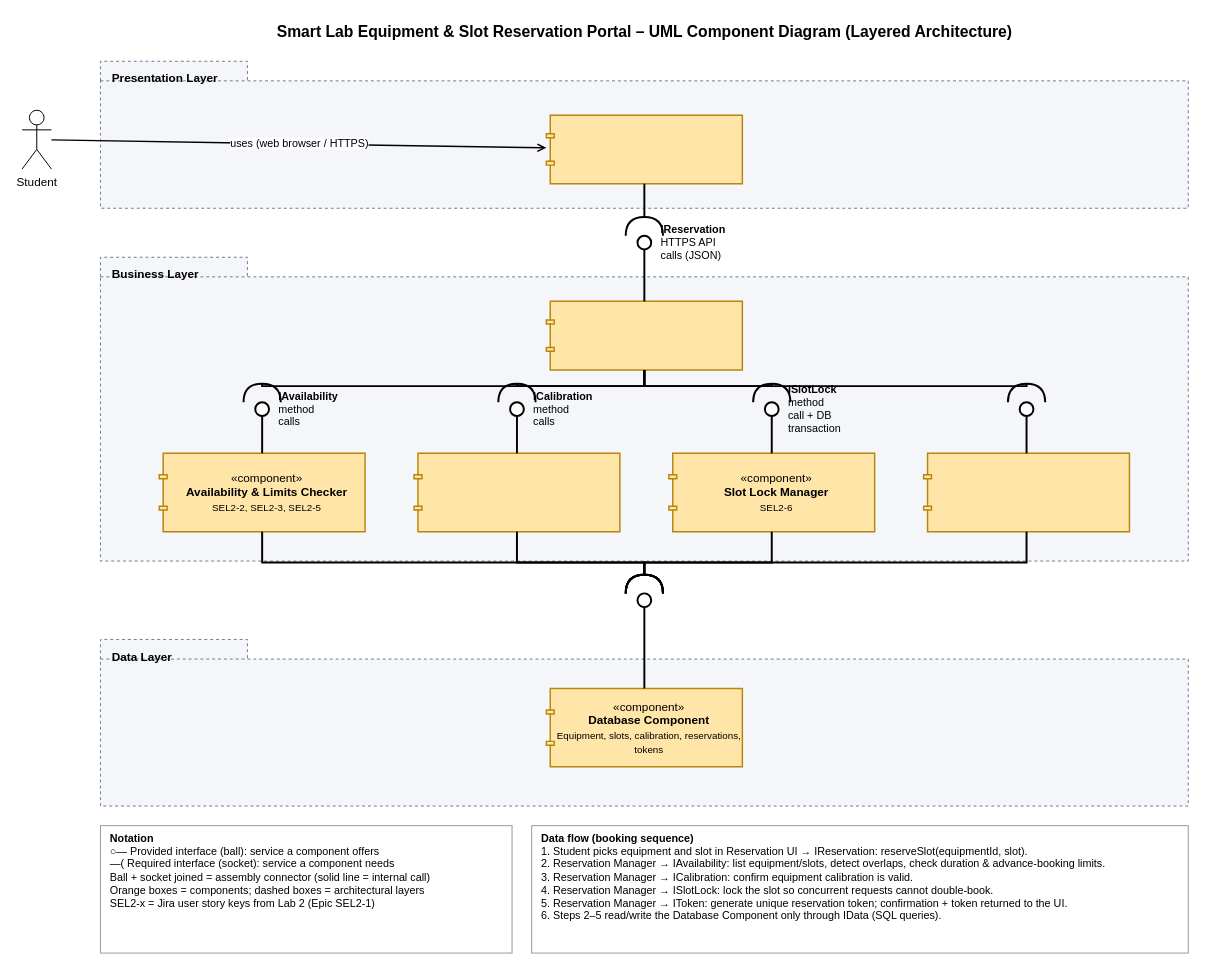
Some shapes in this 1205 by 970 pixel diagram are drawn without their labels. Here are the shapes that lost their labels. From the top down, the centre of each, then its label:
At [644,149]: "«component» Reservation UI Equipment list, slot picker, booking form".
At [644,335]: "«component» Reservation Manager Orchestrates booking workflow (Epic SEL2-1)".
At [1026,408]: "IToken method calls".
At [516,492]: "«component» Calibration Verifier SEL2-4".
At [1026,492]: "«component» Token Generator SEL2-7".
At [644,600]: "IData SQL queries (JDBC)".
